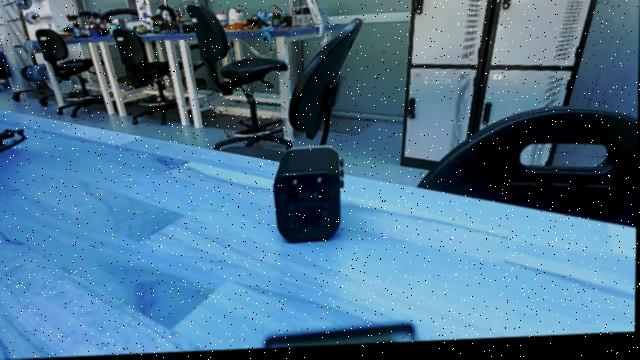adapter: (273, 144, 348, 254)
